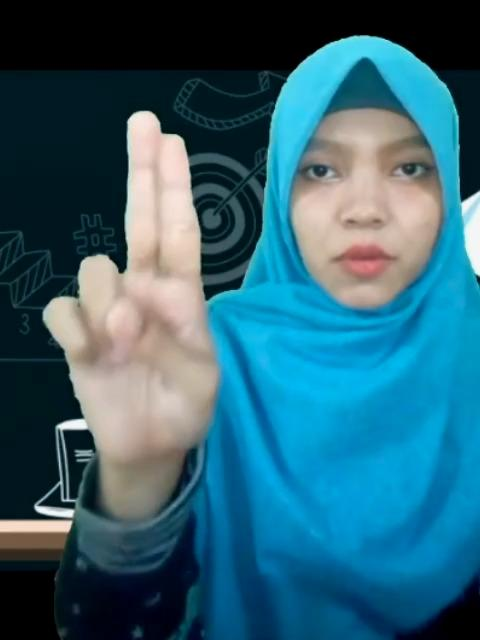U: (41, 99, 231, 472)
